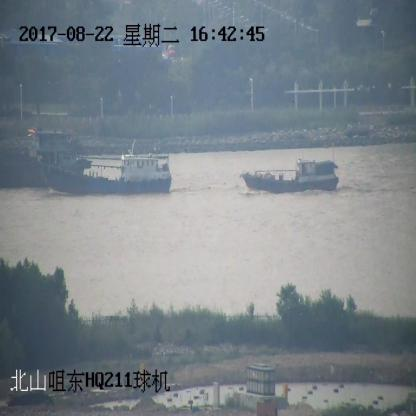Fishing Boat: (37, 141, 171, 196), (242, 159, 338, 193)
